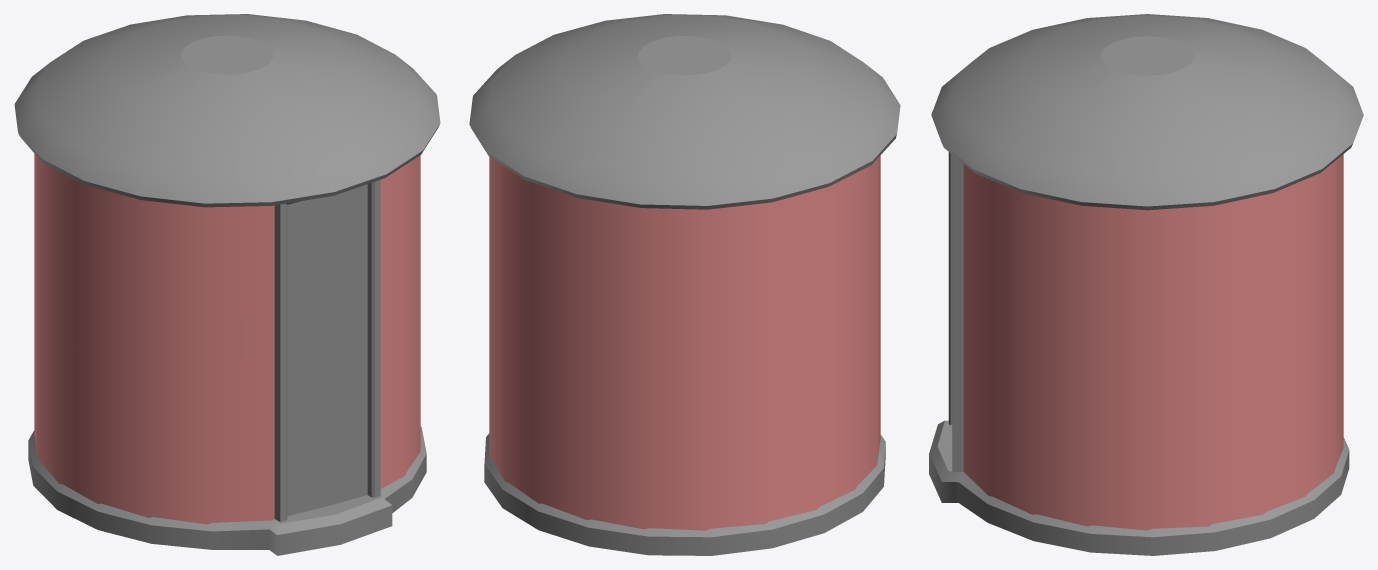
File: RandomVendor.fbx
3 views of the same model, side by side, from view 1: azimuth 30°, elevation 25°; view 2: azimuth 150°, elevation 25°; view 3: azimuth 270°, elevation 25° (orthographic).
Visible parts, largest first — view 1: SM_randomVedorMachine; view 2: SM_randomVedorMachine; view 3: SM_randomVedorMachine.
Boxes of the visible parts, left/top/right/bottom form: SM_randomVedorMachine: left=14, top=14, right=440, bottom=555; SM_randomVedorMachine: left=469, top=14, right=900, bottom=555; SM_randomVedorMachine: left=929, top=14, right=1363, bottom=555.
Size of the model in its own units: 250 by 265 by 251.
